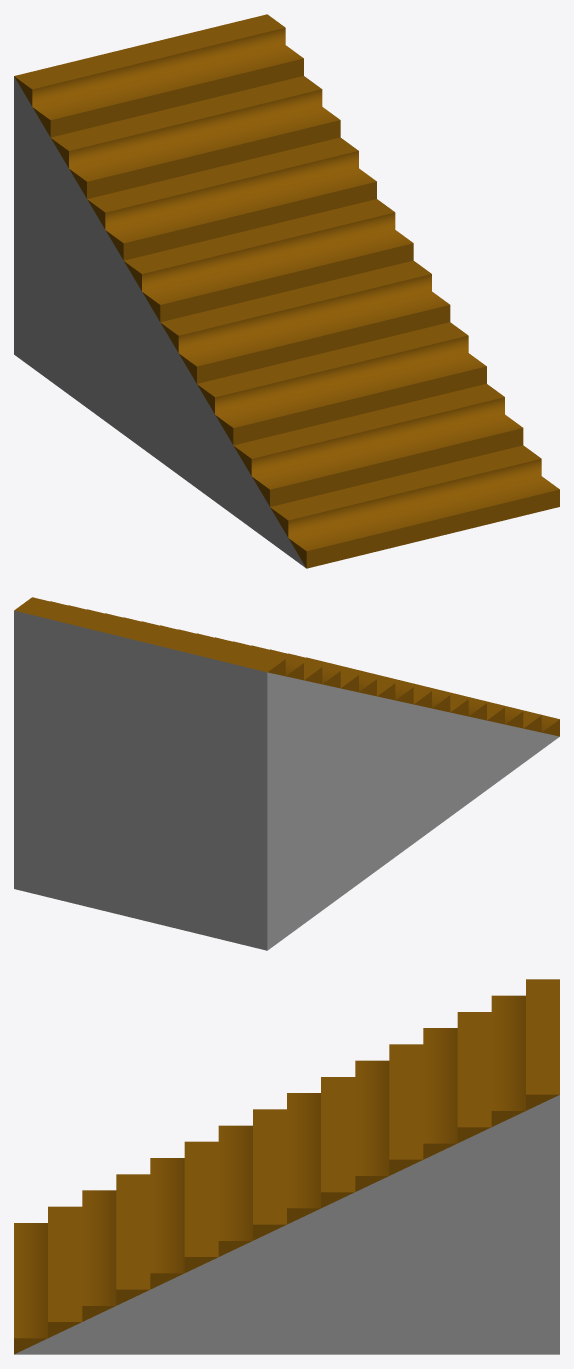
File: Stair_Half_2x4.fbx
3 views of the same model, one above another, from view 1: azimuth 30°, elevation 25°; view 2: azimuth 150°, elevation 25°; view 3: azimuth 270°, elevation 25° (orthographic). The views are drawn at different scales.
Parts seen in each view (by area): view 1: Stair_Half_2x4; view 2: Stair_Half_2x4; view 3: Stair_Half_2x4.
Part boxes in pixels (<box>): Stair_Half_2x4: <box>14,14,559,568</box>; Stair_Half_2x4: <box>14,597,559,950</box>; Stair_Half_2x4: <box>14,979,559,1354</box>.
Bounding box in the file's own units: 2 × 2.1 × 4.
